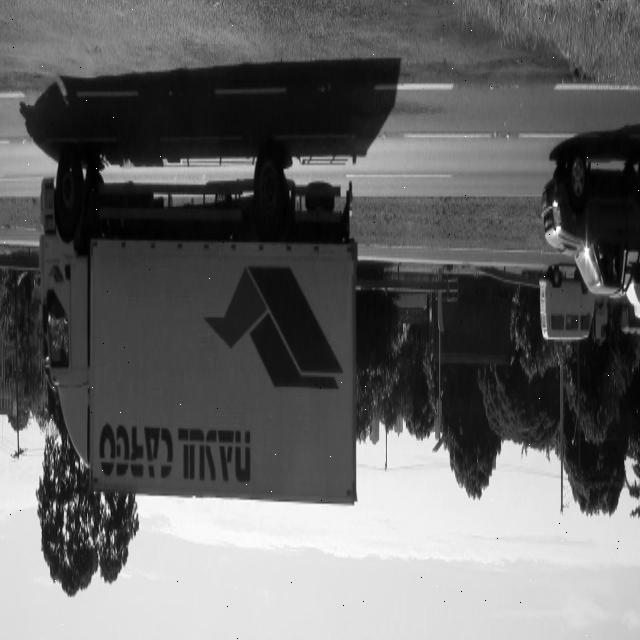-axle: (253, 144, 285, 230), (54, 158, 84, 228)
